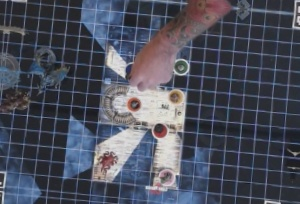blue: (123, 59, 140, 77)
green: (170, 54, 191, 75)
orange: (125, 93, 145, 113)
pink: (156, 166, 176, 186)
red: (151, 120, 170, 139)
yellow: (167, 86, 185, 106)
